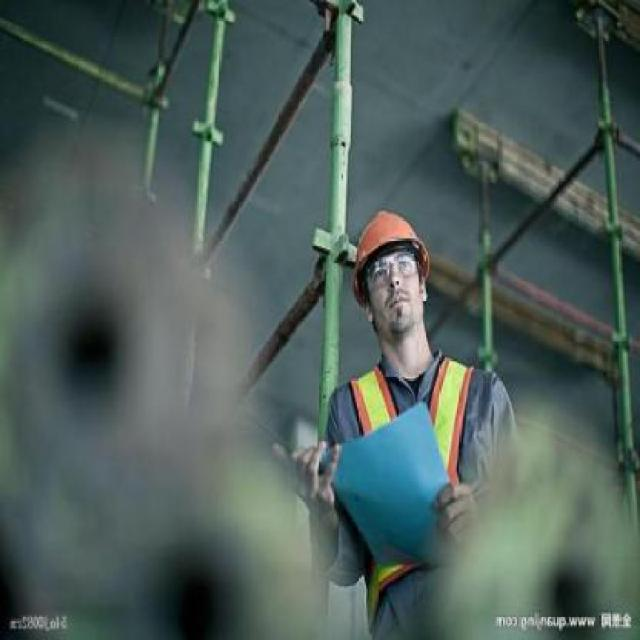safetyhelmet: (352, 205, 430, 331)
